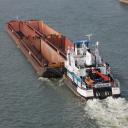tugboat: (63, 35, 123, 105)
